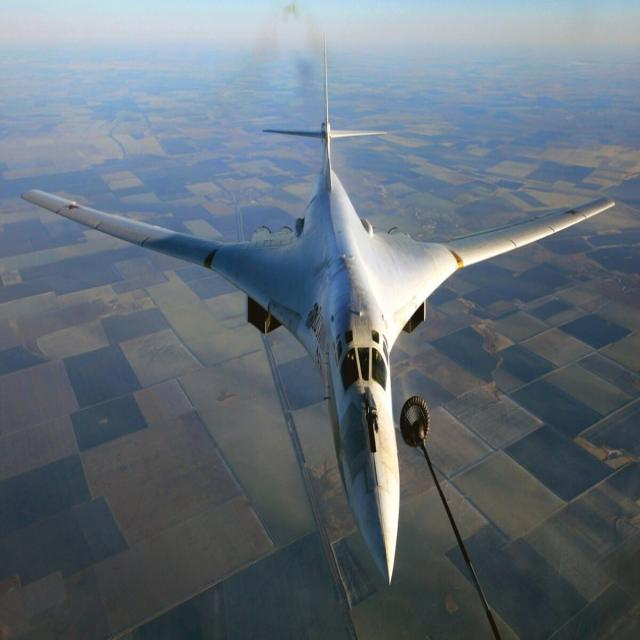Tu160: (22, 23, 631, 622)
